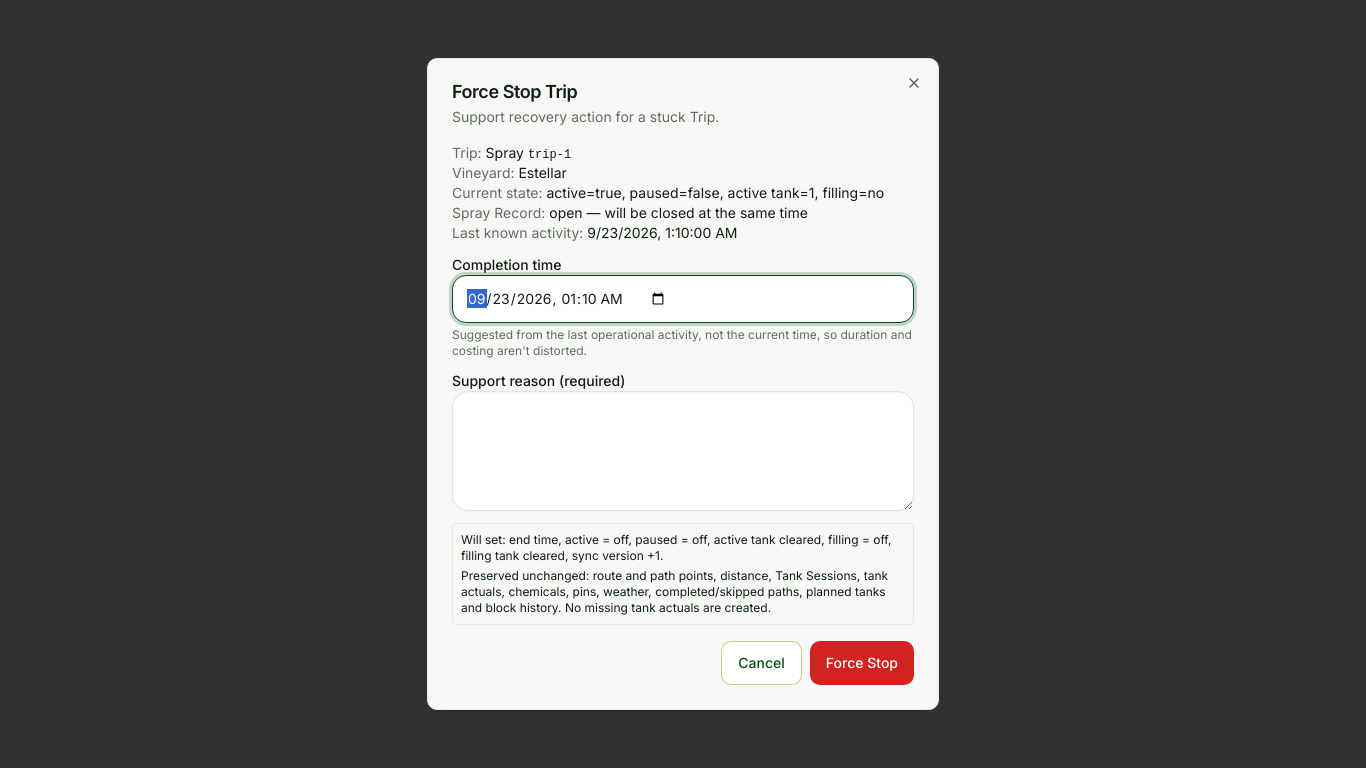
Test: Admin Trips — Force Stop dialog › RPC error leaves state unchanged and shows the error
Type "stuck" into the text box labelled "Support reason (required)" at (683, 451), box [452,391,914,511]
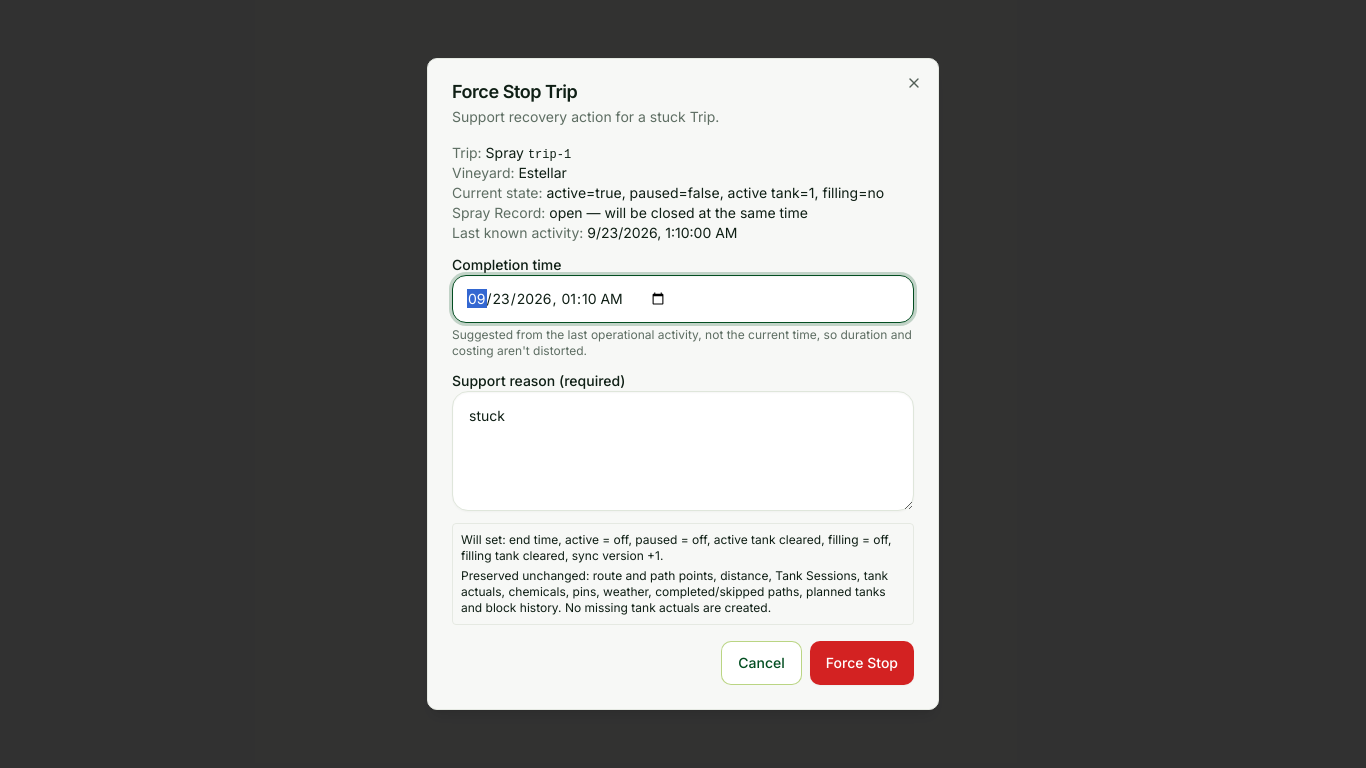
Click the button "Force Stop" at (862, 663), box [810,641,914,685]
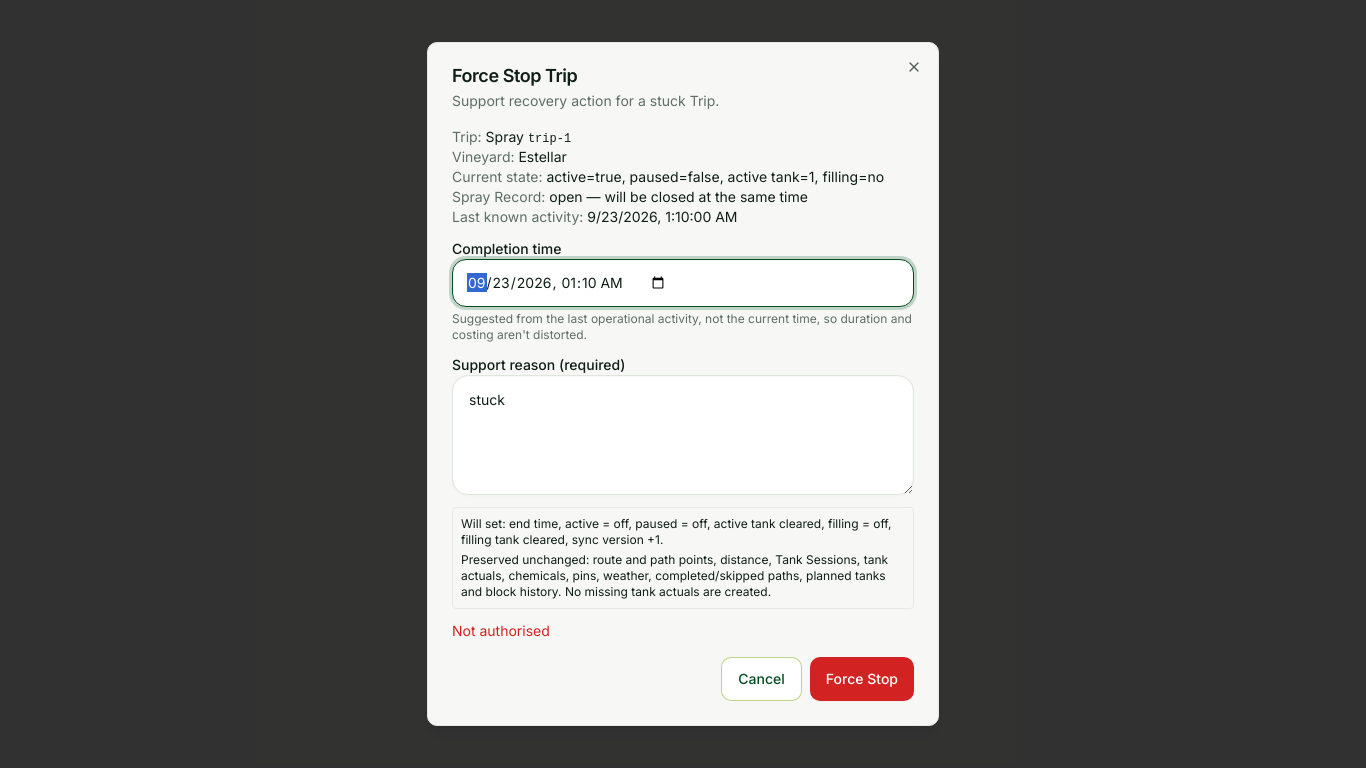
Check: the message "Not authorised" is shown, box [452,622,550,639]
